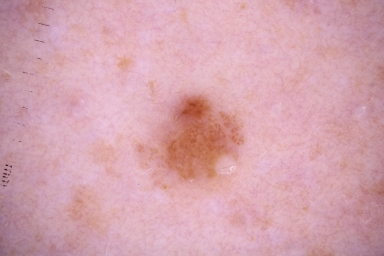melanoma: (166, 111, 243, 186), (182, 94, 208, 120)
